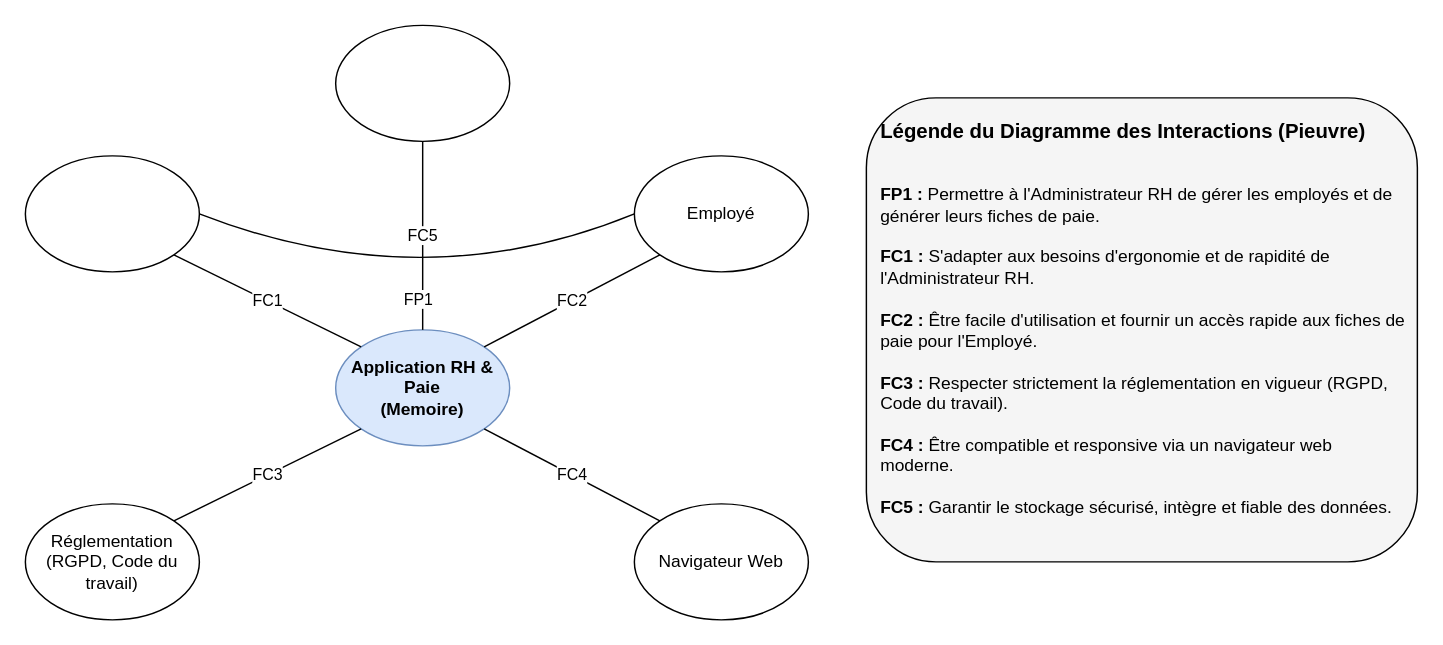
The diagram is 1443 pixels wide and 645 high, and some of its shapes have lost their labels. Here are the shapes that lost their labels. From the top down, the box of each, then its label:
(334, 24, 510, 141): Base de données
(24, 154, 199, 272): Administrateur RH
